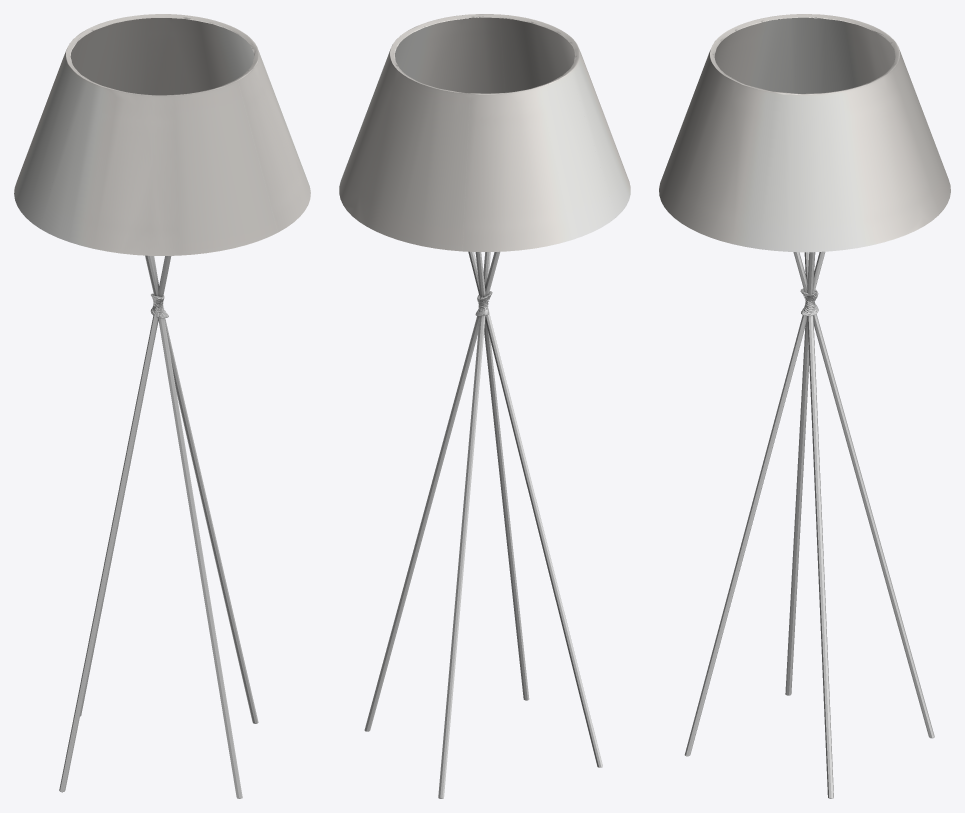
File: raw_model.obj
3 views of the same model, side by side, from view 1: azimuth 30°, elevation 25°; view 2: azimuth 150°, elevation 25°; view 3: azimuth 270°, elevation 25° (orthographic).
Parts seen in each view (by area): view 1: solid_001, solid_002; view 2: solid_001, solid_002; view 3: solid_001, solid_002.
Part boxes in pixels (bbox=[...]): solid_001: bbox=[14, 14, 310, 255]; solid_002: bbox=[59, 255, 258, 798]; solid_001: bbox=[339, 14, 630, 251]; solid_002: bbox=[364, 251, 602, 798]; solid_001: bbox=[659, 14, 950, 252]; solid_002: bbox=[684, 251, 934, 798].
Bounding box in the file's own units: 0.5681 × 1.49 × 0.5681.
Materials: 1 (1 with a texture image).
